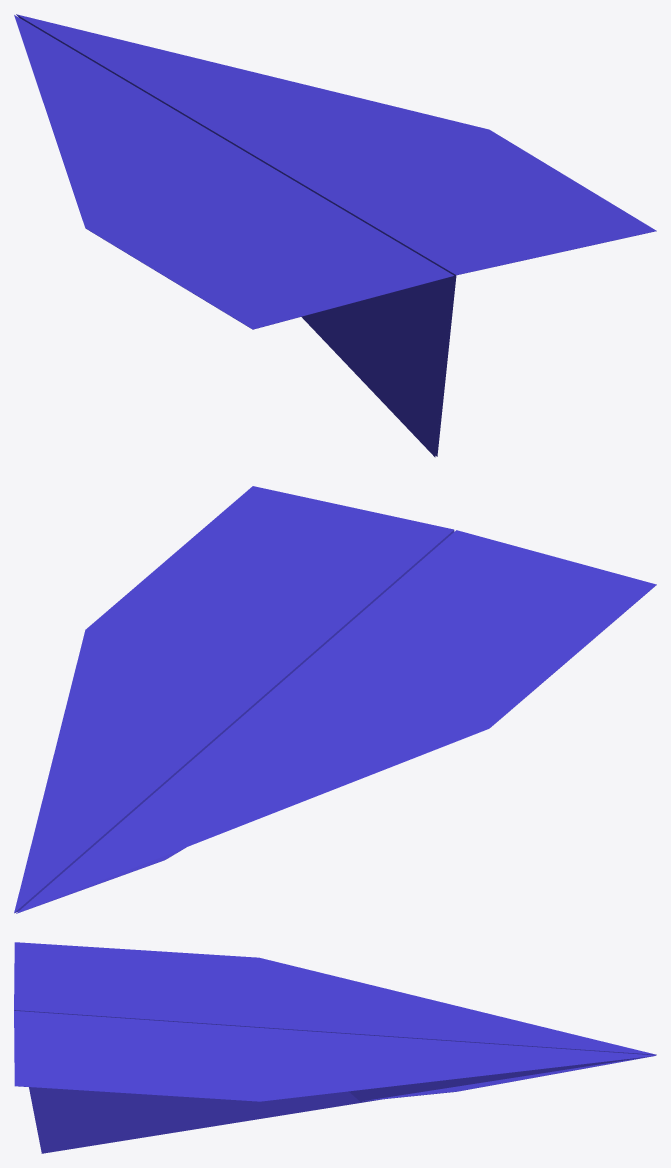
Rendered from paperplane.glb.
3 renders of one model, top to bottom at view 1: azimuth 30°, elevation 25°; view 2: azimuth 150°, elevation 25°; view 3: azimuth 270°, elevation 25°, orthographic. The views are drawn at different scales.
Visible parts, largest first — view 1: Plane; view 2: Plane; view 3: Plane.
Part boxes in pixels (bbox=[...]): Plane: bbox=[14, 14, 656, 457]; Plane: bbox=[14, 486, 656, 913]; Plane: bbox=[14, 942, 656, 1153].
Bounding box in the file's own units: 0.1524 × 0.0706 × 0.2876.
